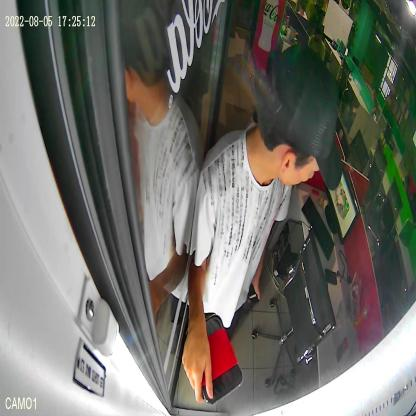red: (202, 315, 244, 405)
